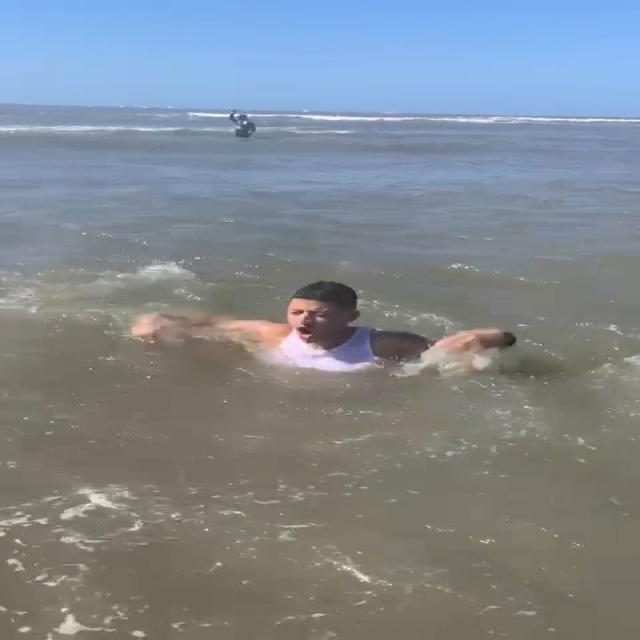Out of Water: (129, 280, 524, 374)
